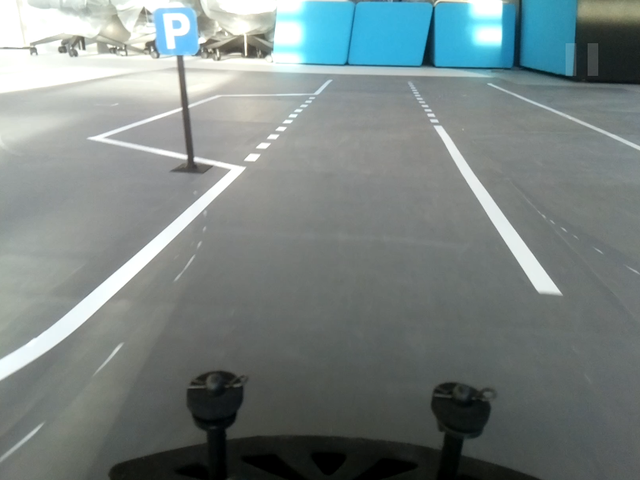parking: (153, 7, 200, 55)
